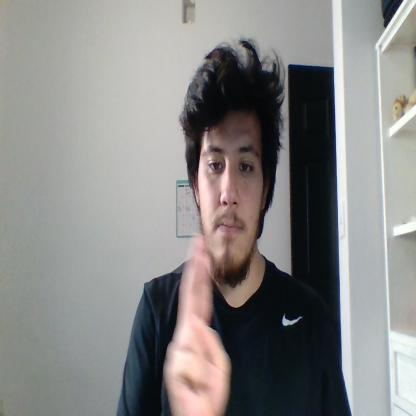R: (164, 232, 230, 416)
